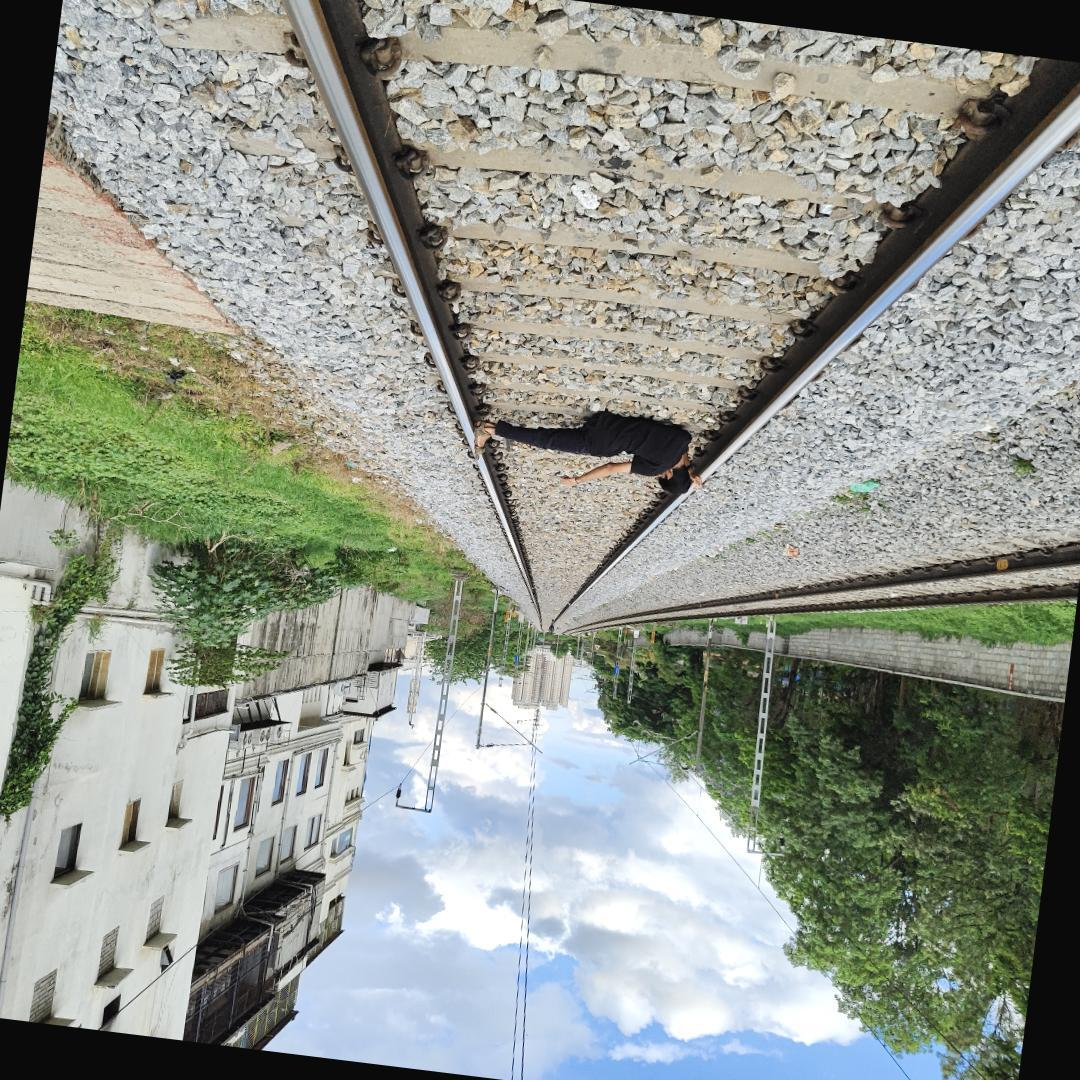sleeping: (455, 387, 715, 503)
